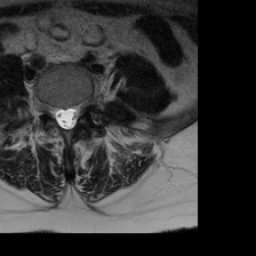CCS_normal: (62, 97, 70, 139)
LFS_normal: (78, 91, 85, 122)
LLS_normal: (70, 97, 78, 134)
RFS_normal: (46, 93, 54, 123)
RLS_normal: (54, 99, 62, 133)
